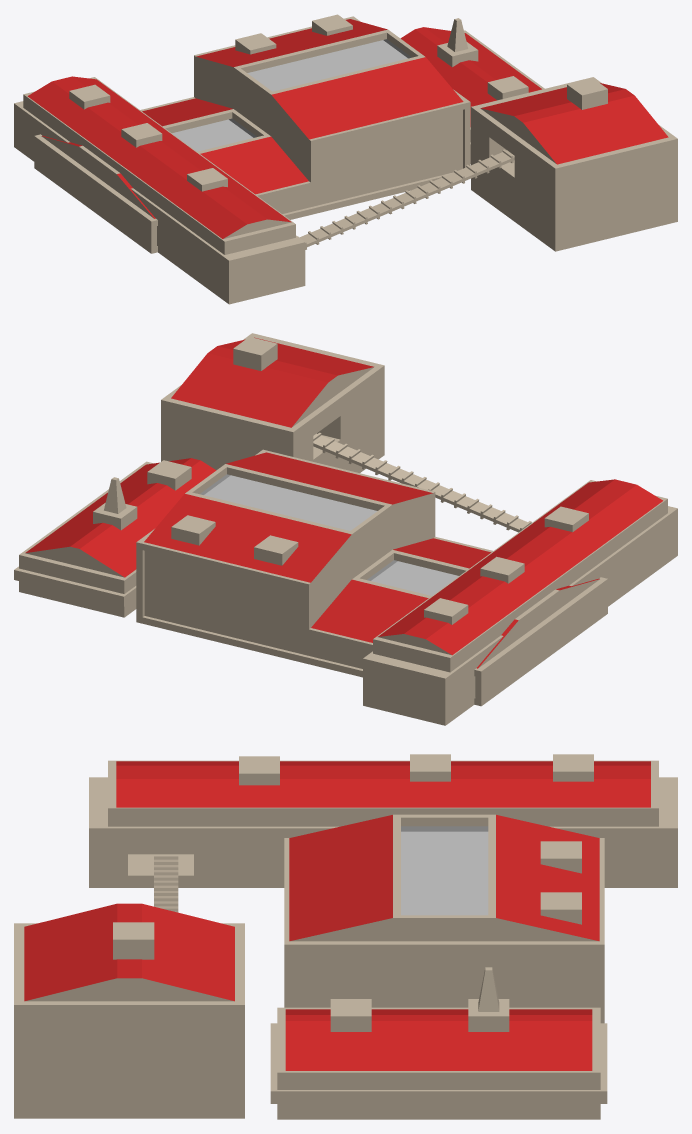
Rendered from bulding1.fbx.
3 renders of one model, top to bottom at view 1: azimuth 30°, elevation 25°; view 2: azimuth 150°, elevation 25°; view 3: azimuth 270°, elevation 25°, orthographic. The views are drawn at different scales.
Visible parts, largest first — view 1: appliances_factory; view 2: appliances_factory; view 3: appliances_factory.
Part boxes in pixels (left/top/right/bottom): appliances_factory: left=14, top=14, right=677, bottom=304; appliances_factory: left=14, top=333, right=677, bottom=725; appliances_factory: left=14, top=754, right=677, bottom=1119.
Bounding box in the file's own units: 363 × 91.84 × 353.
